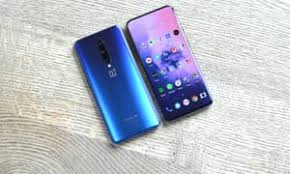huawei: (60, 26, 165, 145)
